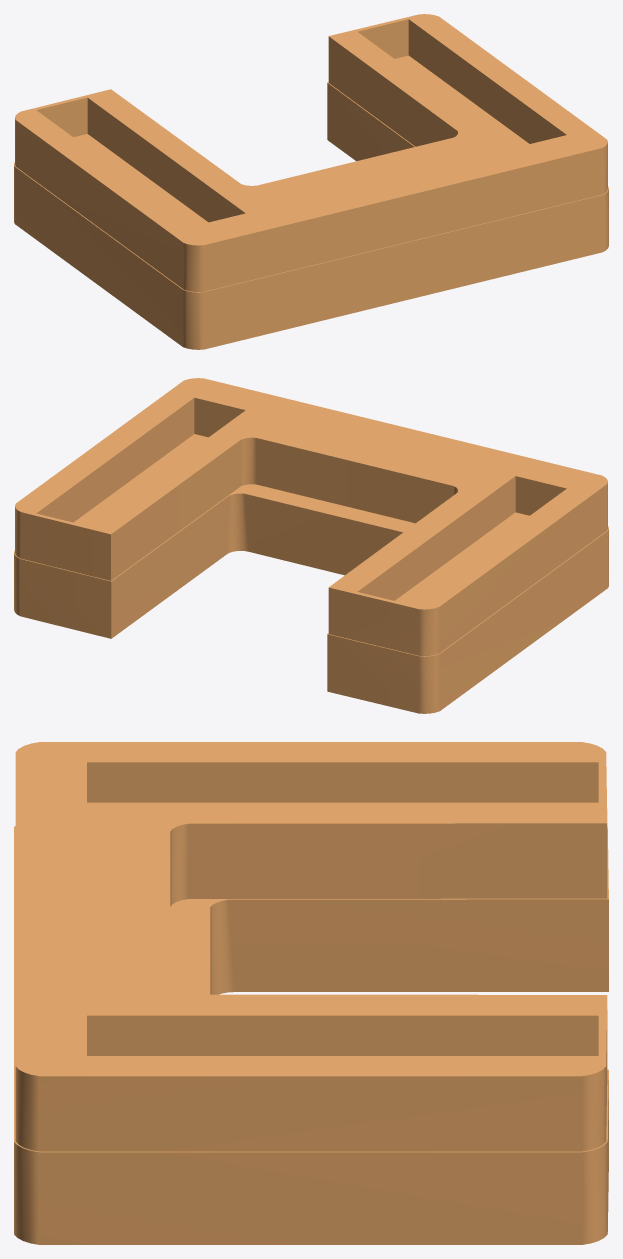
Rendered from mech-sill-duct.glb.
3 renders of one model, top to bottom at view 1: azimuth 30°, elevation 25°; view 2: azimuth 150°, elevation 25°; view 3: azimuth 270°, elevation 25°, orthographic. The views are drawn at different scales.
Visible parts, largest first — view 1: mech-sill-duct; view 2: mech-sill-duct; view 3: mech-sill-duct.
Boxes of the visible parts, x1,y1,x2,y2 form: mech-sill-duct: (14,14,608,349); mech-sill-duct: (14,378,608,713); mech-sill-duct: (14,742,608,1244).
Size of the model in its own units: 0.0497 by 0.0116 by 0.0372.
